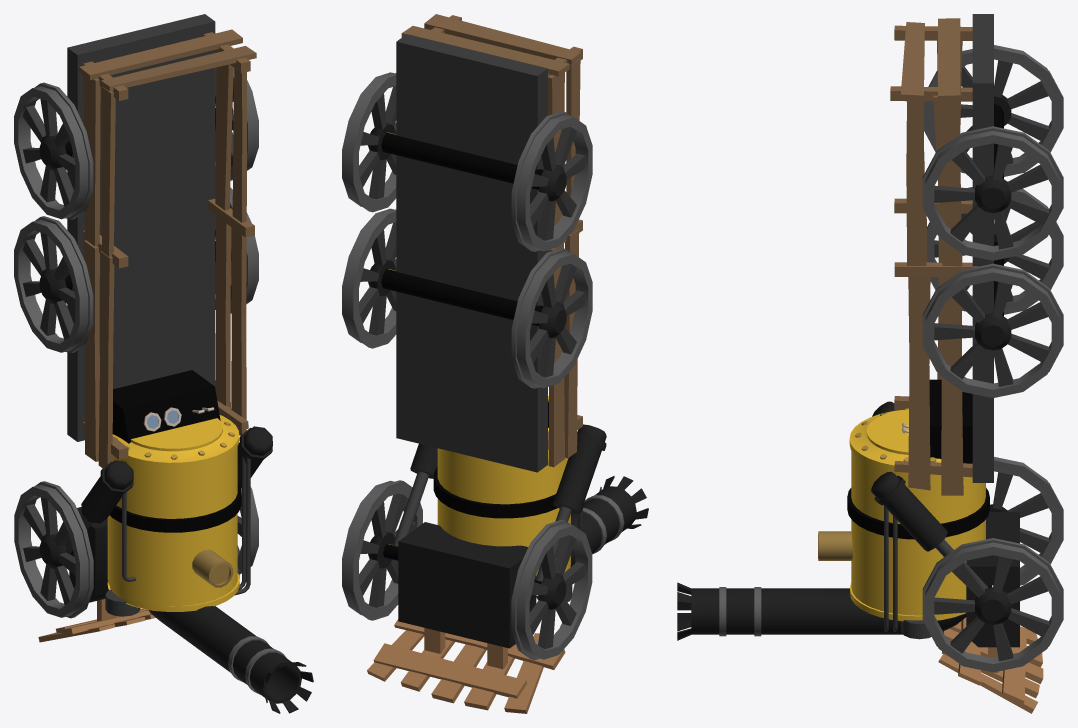
The model's file is Train.fbx.
3 renders of one model, left to right at view 1: azimuth 30°, elevation 25°; view 2: azimuth 150°, elevation 25°; view 3: azimuth 270°, elevation 25°, orthographic. The views are drawn at different scales.
Parts seen in each view (by area): view 1: Engine1, Engine1.001, WheelRight2, WheelRight3, WheelRight, Board.003, Board.002, Board.005, Board.006, Board.007, Board, Board.014 (+8 smaller); view 2: Engine1.001, Engine1, Pusher1, WheelRight, WheelRight2, WheelRight3, WheelLeft, WheelLeft3, WheelLeft2, Board.004, Board.007, Board.002 (+3 smaller); view 3: Engine1, WheelLeft3, WheelLeft, WheelLeft2, Engine1.001, WheelRight3, Board.003, WheelRight, Pusher1, Board.005, WheelRight2, Board.015 (+4 smaller).
Boxes of the visible parts, bbox=[...] form: Engine1: bbox=[65, 370, 313, 713]; Engine1.001: bbox=[65, 14, 215, 441]; WheelRight2: bbox=[14, 216, 93, 353]; WheelRight3: bbox=[14, 82, 93, 219]; WheelRight: bbox=[14, 481, 93, 618]; Board.003: bbox=[231, 227, 246, 435]; Board.002: bbox=[98, 251, 114, 468]; Board.005: bbox=[215, 215, 231, 407]; Board.006: bbox=[84, 240, 99, 461]; Board.007: bbox=[79, 29, 242, 79]; Board: bbox=[215, 64, 233, 210]; Board.014: bbox=[83, 75, 100, 246]; Engine1.001: bbox=[381, 34, 547, 472]; Engine1: bbox=[383, 396, 648, 648]; Pusher1: bbox=[367, 619, 565, 713]; WheelRight: bbox=[511, 519, 592, 660]; WheelRight2: bbox=[511, 248, 592, 388]; WheelRight3: bbox=[511, 111, 592, 251]; WheelLeft: bbox=[342, 480, 422, 620]; WheelLeft3: bbox=[342, 72, 396, 212]; WheelLeft2: bbox=[342, 208, 396, 348]; Board.004: bbox=[424, 14, 581, 64]; Board.007: bbox=[401, 26, 569, 76]; Board.002: bbox=[564, 229, 579, 458]; Engine1: bbox=[677, 379, 1019, 647]; WheelLeft3: bbox=[922, 126, 1063, 260]; WheelLeft: bbox=[922, 538, 1063, 672]; WheelLeft2: bbox=[922, 263, 1063, 397]; Engine1.001: bbox=[972, 14, 1003, 482]; WheelRight3: bbox=[924, 45, 1063, 176]; Board.003: bbox=[908, 277, 930, 490]; WheelRight: bbox=[989, 457, 1063, 585]; Pusher1: bbox=[938, 617, 1043, 713]; Board.005: bbox=[940, 276, 963, 495]; WheelRight2: bbox=[927, 187, 1063, 314]; Board.015: bbox=[906, 100, 926, 265].
Bounding box in the file's own units: 3.97 × 12.69 × 7.05.
